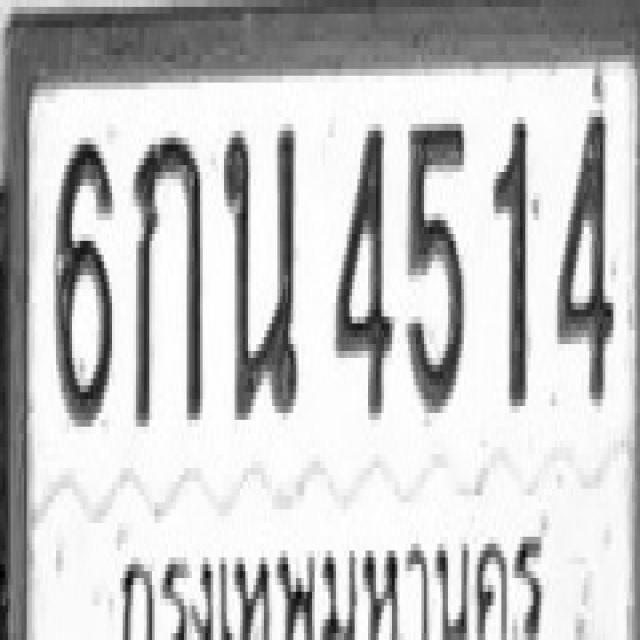1: (491, 114, 528, 402)
10GorGai: (132, 130, 201, 427)
34NorNu: (221, 120, 296, 417)
4: (333, 120, 392, 417), (555, 106, 613, 402)
5: (405, 117, 464, 413)
6: (53, 134, 112, 423)
Bangkok: (115, 523, 552, 640)
